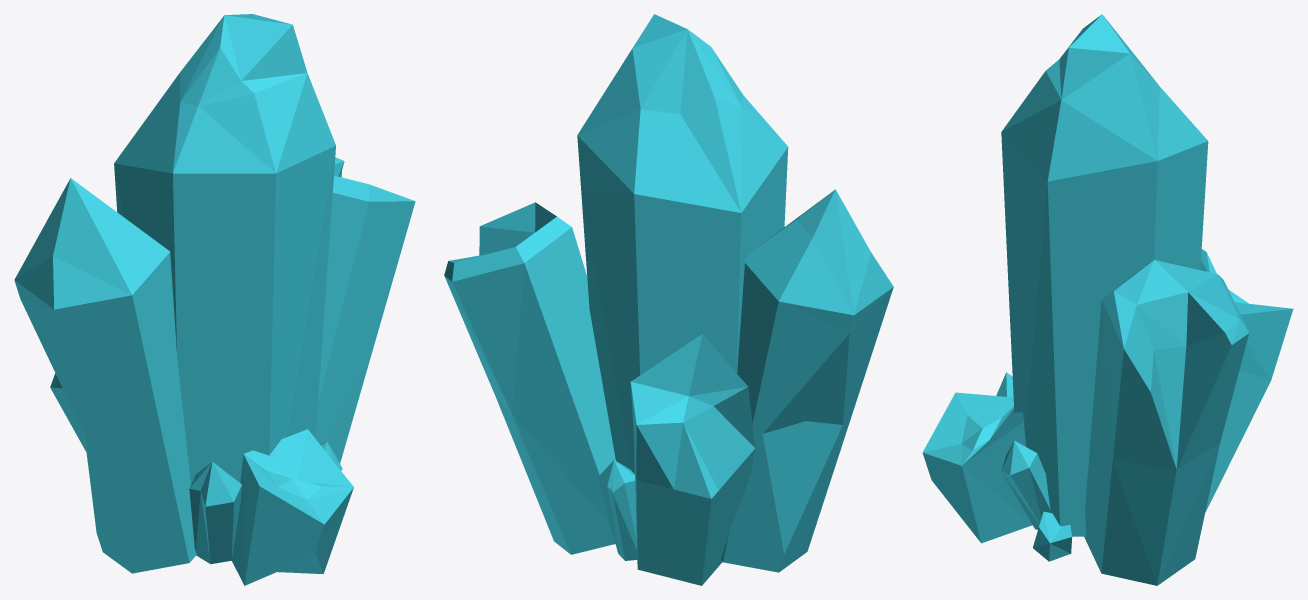
The model's file is Kristall_03.fbx.
3 views of the same model, side by side, from view 1: azimuth 30°, elevation 25°; view 2: azimuth 150°, elevation 25°; view 3: azimuth 270°, elevation 25° (orthographic). The views are drawn at different scales.
Parts seen in each view (by area): view 1: Cylinder.007; view 2: Cylinder.007; view 3: Cylinder.007.
Part boxes in pixels (bbox=[...]): Cylinder.007: bbox=[14, 14, 415, 585]; Cylinder.007: bbox=[444, 14, 893, 585]; Cylinder.007: bbox=[922, 14, 1293, 585].
Size of the model in its own units: 58.57 by 75.64 by 48.92.
